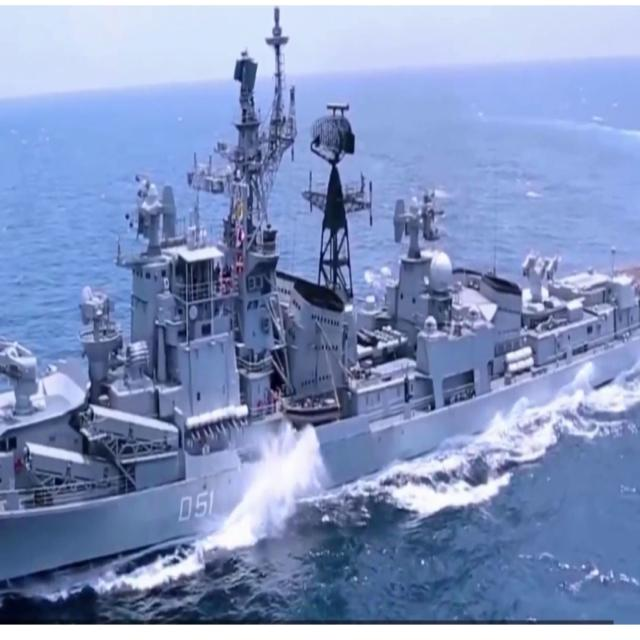OCR: (168, 480, 219, 530)
